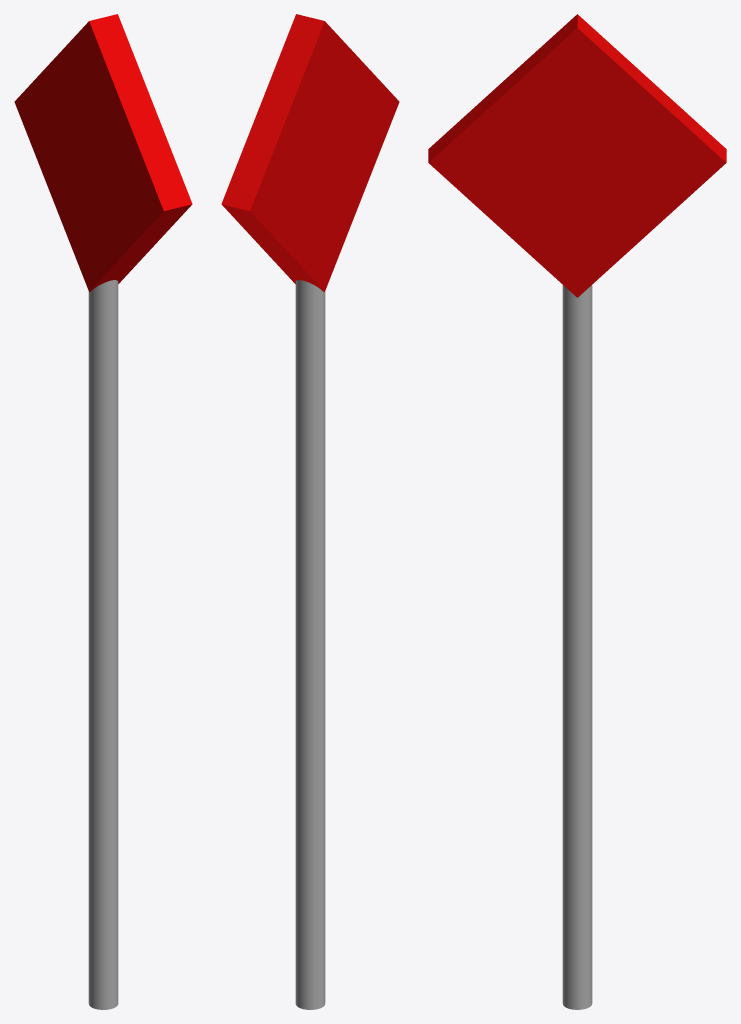
Rendered from trafficsing.fbx.
3 renders of one model, left to right at view 1: azimuth 30°, elevation 25°; view 2: azimuth 150°, elevation 25°; view 3: azimuth 270°, elevation 25°, orthographic.
Visible parts, largest first — view 1: trafficsing; view 2: trafficsing; view 3: trafficsing.
Part boxes in pixels (x1,y1,x2,y2): trafficsing: (14,14,192,1009); trafficsing: (221,14,399,1009); trafficsing: (428,14,726,1009).
Size of the model in its own units: 0.2656 by 8.72 by 2.4.
